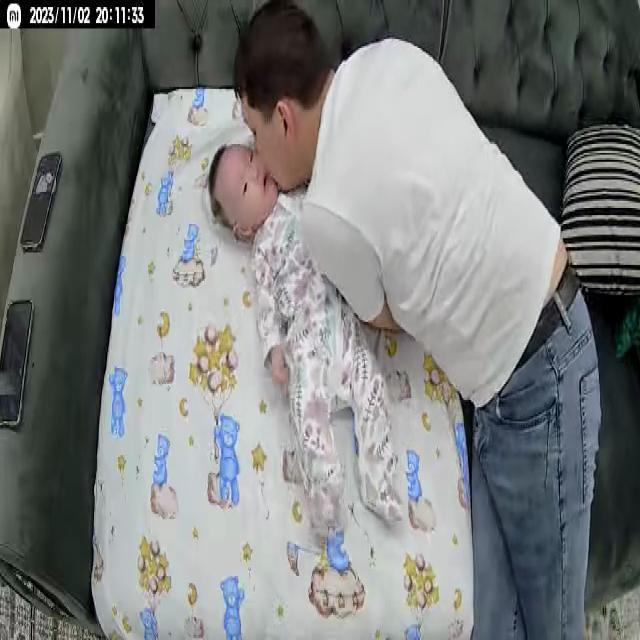baby: (202, 140, 418, 533)
